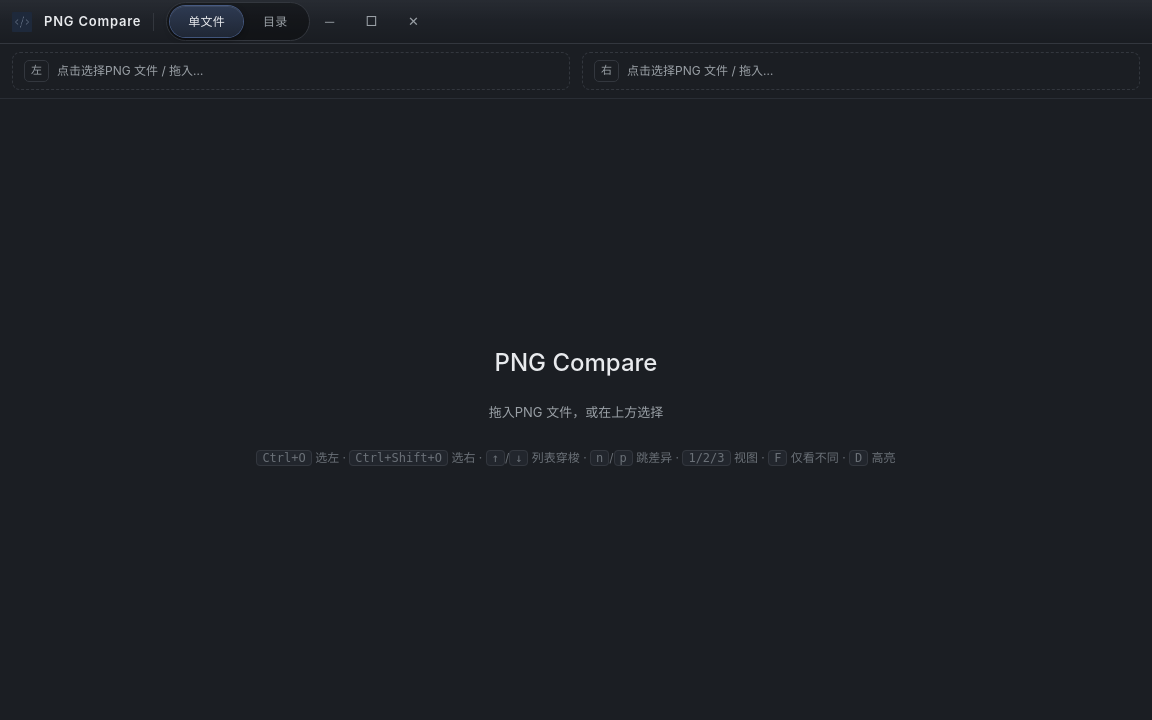
Test case: App (three-column shell) › directory scan populates the sidebar, auto-selects into mirror and shows the diff rail
Click the button "目录" at (275, 22), box [245, 6, 306, 37]
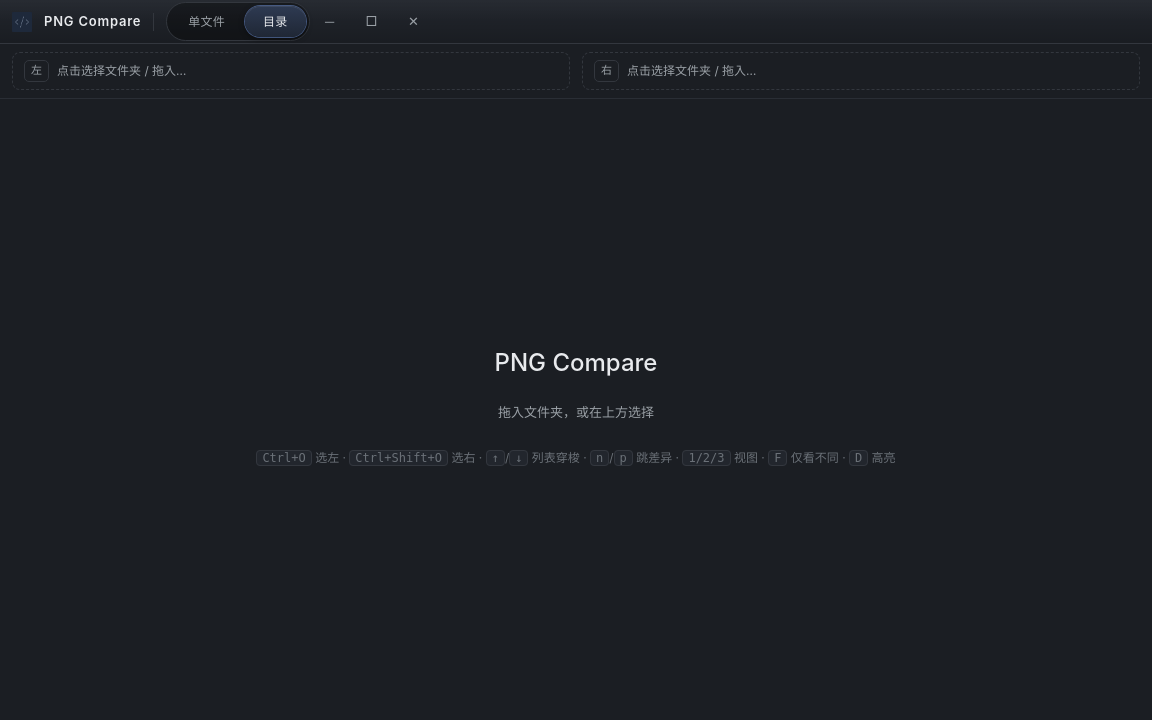
Click the 1st button with class "selbar__slot-main" at (122, 71), box [57, 61, 558, 81]
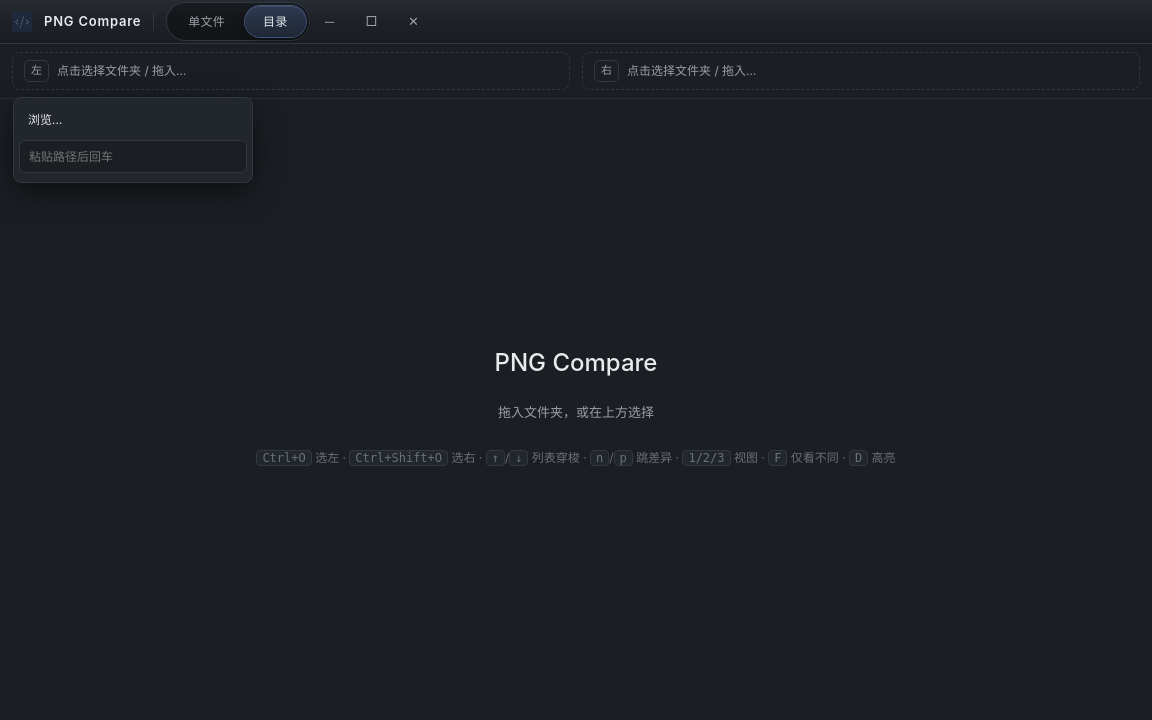
Click the button "浏览…" at (133, 120), box [19, 103, 247, 136]
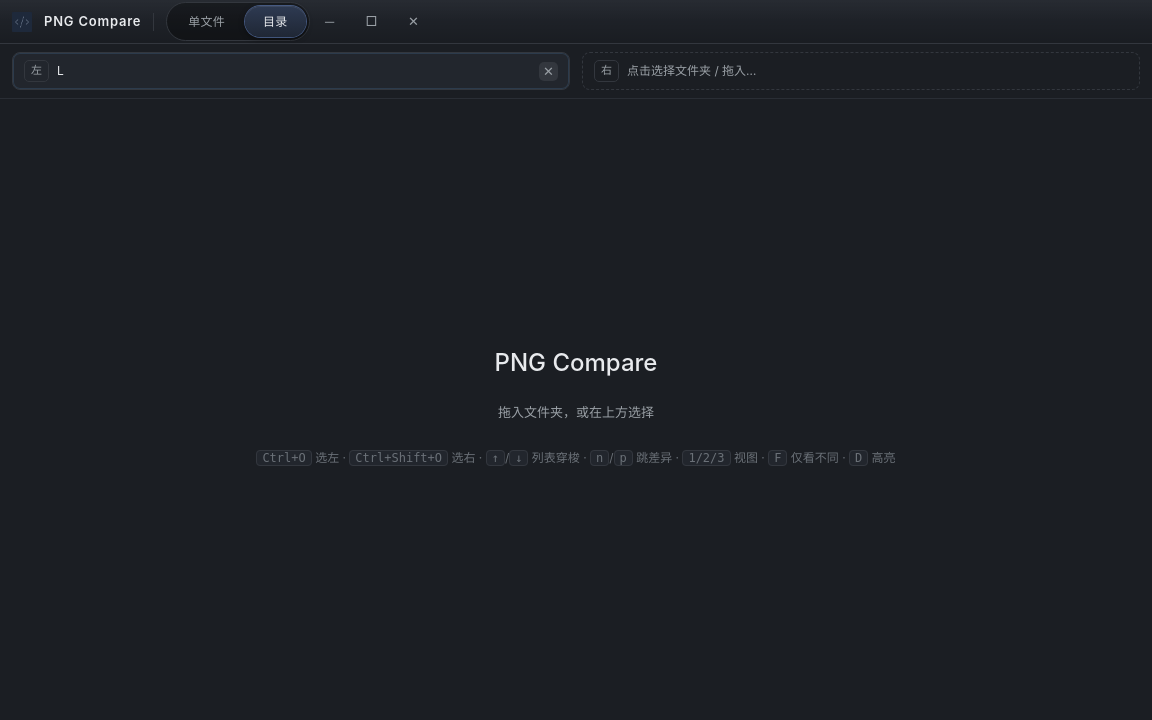
Click the button with aria-label "未选择" at (692, 71), box [627, 61, 1128, 81]
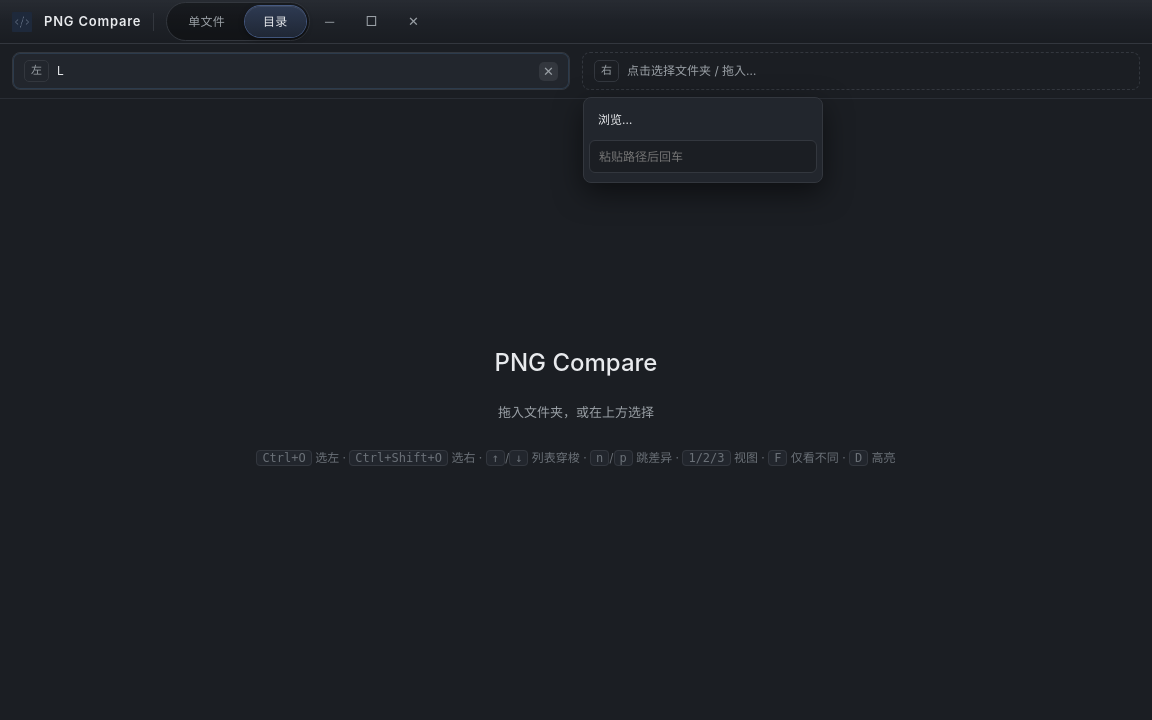
Click the button "浏览…" at (703, 120), box [589, 103, 817, 136]
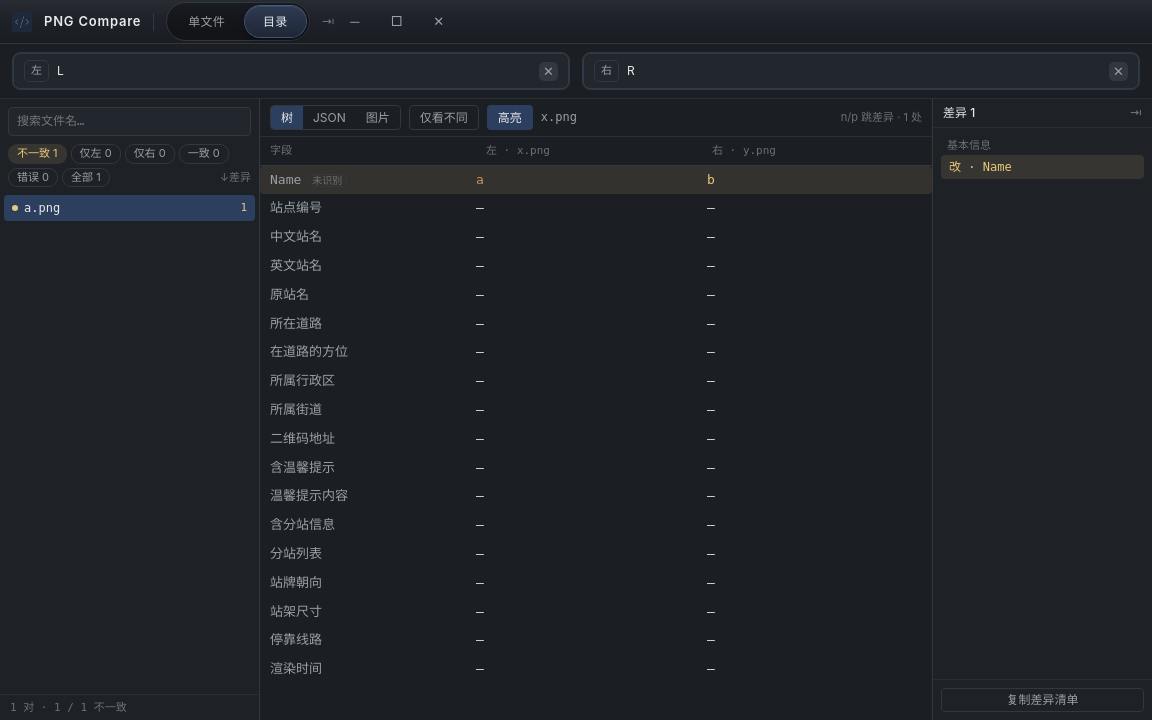
Expected: the field with placeholder "搜索文件名…" is shown, [8, 107, 251, 136]
Expected: the element with class "detail-head" is shown, [260, 99, 932, 137]
Expected: the element with class "rail" is shown, [932, 99, 1151, 719]
